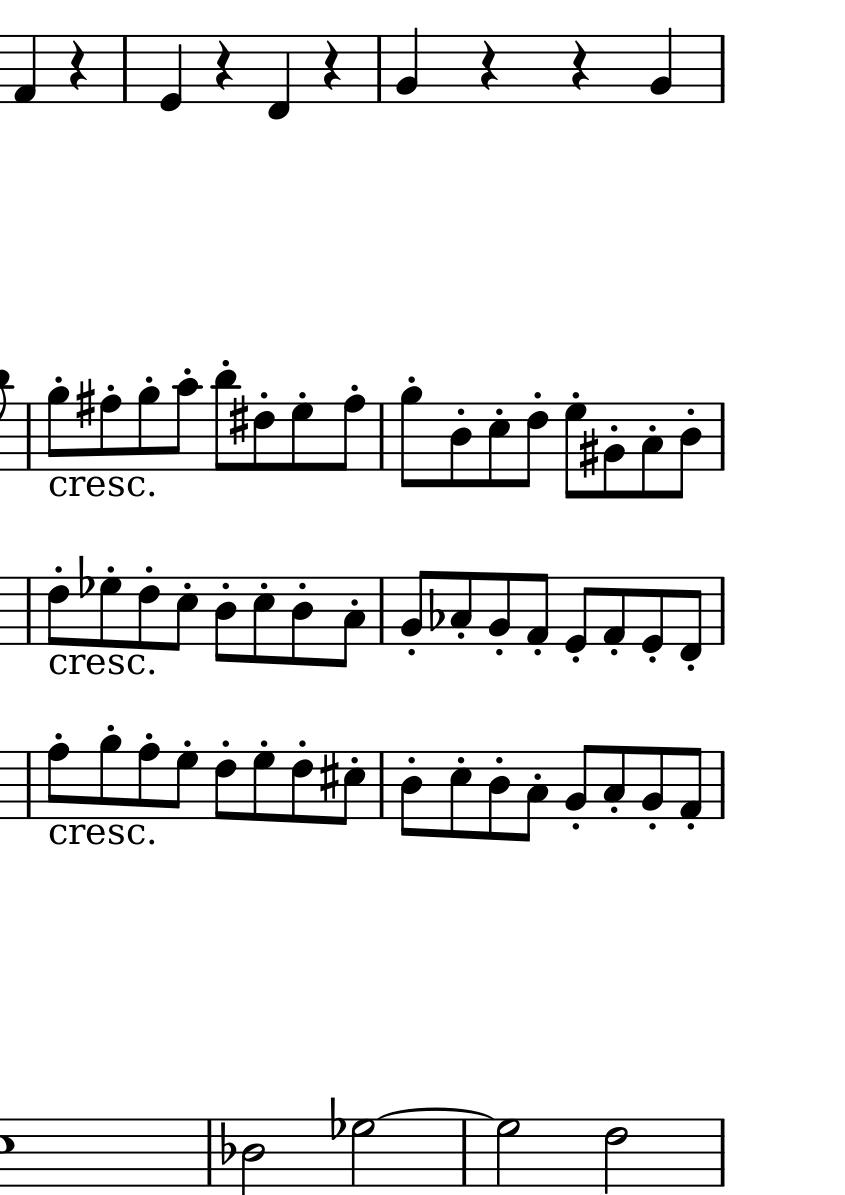2_4: (241, 1116, 267, 1195)
2_6: (603, 1118, 629, 1193)
2_7: (349, 1116, 377, 1188), (493, 1116, 521, 1188)
4_-1: (266, 33, 292, 122)
4_0: (157, 34, 184, 115)
4_1: (13, 34, 38, 106)
4_2: (648, 26, 675, 106), (395, 26, 421, 107)
8_-1: (678, 575, 704, 665)
8_0: (562, 575, 594, 656), (639, 575, 666, 656)
8_1: (524, 571, 550, 648), (678, 745, 703, 821), (602, 575, 627, 648)
8_10: (170, 378, 201, 472)
8_11: (211, 370, 236, 471)
8_2: (601, 402, 626, 501), (563, 743, 595, 820), (398, 569, 427, 646), (486, 571, 512, 647), (640, 744, 665, 821)
8_3: (332, 575, 366, 670), (519, 750, 550, 843), (637, 402, 664, 502), (448, 570, 474, 646), (602, 744, 627, 820)
8_4: (675, 400, 704, 502), (447, 401, 473, 491), (290, 575, 315, 668), (486, 750, 511, 842), (398, 751, 424, 839), (212, 576, 237, 664)
8_5: (484, 401, 511, 490), (168, 576, 199, 653), (336, 751, 366, 828), (250, 575, 275, 666), (448, 749, 472, 841)
8_6: (517, 400, 550, 491), (136, 575, 160, 652), (289, 750, 313, 827), (251, 401, 276, 474), (213, 750, 238, 823), (45, 576, 70, 648)
8_7: (562, 400, 588, 501), (170, 750, 199, 819), (289, 401, 315, 472), (97, 576, 122, 649), (251, 751, 276, 823)
8_8: (332, 393, 367, 473), (45, 741, 70, 820), (98, 392, 122, 471), (136, 742, 160, 821)
8_9: (399, 384, 424, 492), (136, 385, 161, 472), (98, 733, 123, 819), (45, 385, 69, 472)
Cresc: (45, 472, 153, 502), (45, 648, 157, 676), (45, 820, 155, 847)
Flat: (218, 1120, 236, 1168), (77, 552, 95, 599), (328, 1095, 345, 1143), (428, 588, 445, 631)
Rests4: (212, 39, 235, 94), (67, 39, 89, 94), (320, 39, 342, 94), (477, 39, 499, 94), (569, 39, 591, 94)
Sharp: (76, 377, 96, 429), (579, 427, 599, 479), (319, 750, 339, 802), (229, 393, 248, 446)
Single_barline: (115, 36, 135, 103), (455, 1119, 475, 1186), (713, 576, 732, 646), (370, 36, 389, 103), (713, 36, 732, 103), (372, 403, 390, 471), (713, 1119, 731, 1187), (373, 752, 391, 819), (200, 1119, 218, 1186), (714, 402, 731, 471), (714, 751, 731, 819), (20, 578, 37, 645), (373, 578, 390, 645), (20, 752, 37, 819), (20, 403, 36, 471)
Slur: (380, 1107, 492, 1120)
